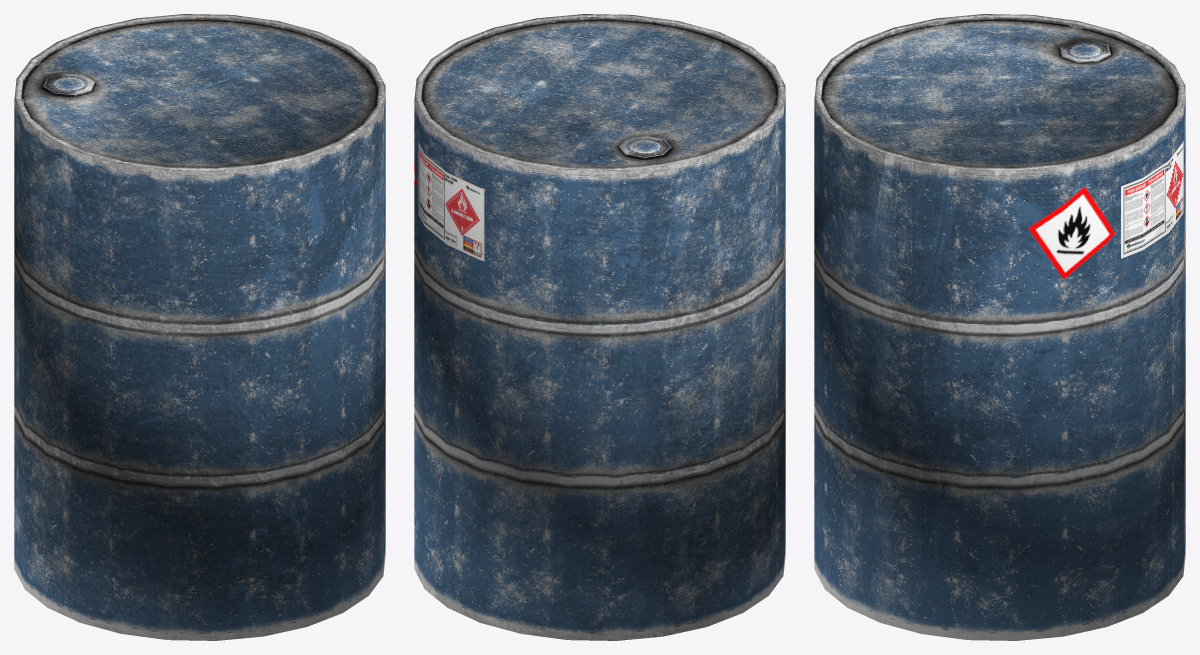
File: barelBlue.fbx
The picture shows the model from 3 angles, left to right: view 1: azimuth 30°, elevation 25°; view 2: azimuth 150°, elevation 25°; view 3: azimuth 270°, elevation 25°; orthographic projection.
Parts seen in each view (by area): view 1: Barrel04_0; view 2: Barrel04_0; view 3: Barrel04_0.
Part boxes in pixels (x1,y1,x2,y2): Barrel04_0: (14, 14, 385, 640); Barrel04_0: (414, 14, 785, 640); Barrel04_0: (814, 14, 1185, 640).
Bounding box in the file's own units: 220 × 307 × 220.
